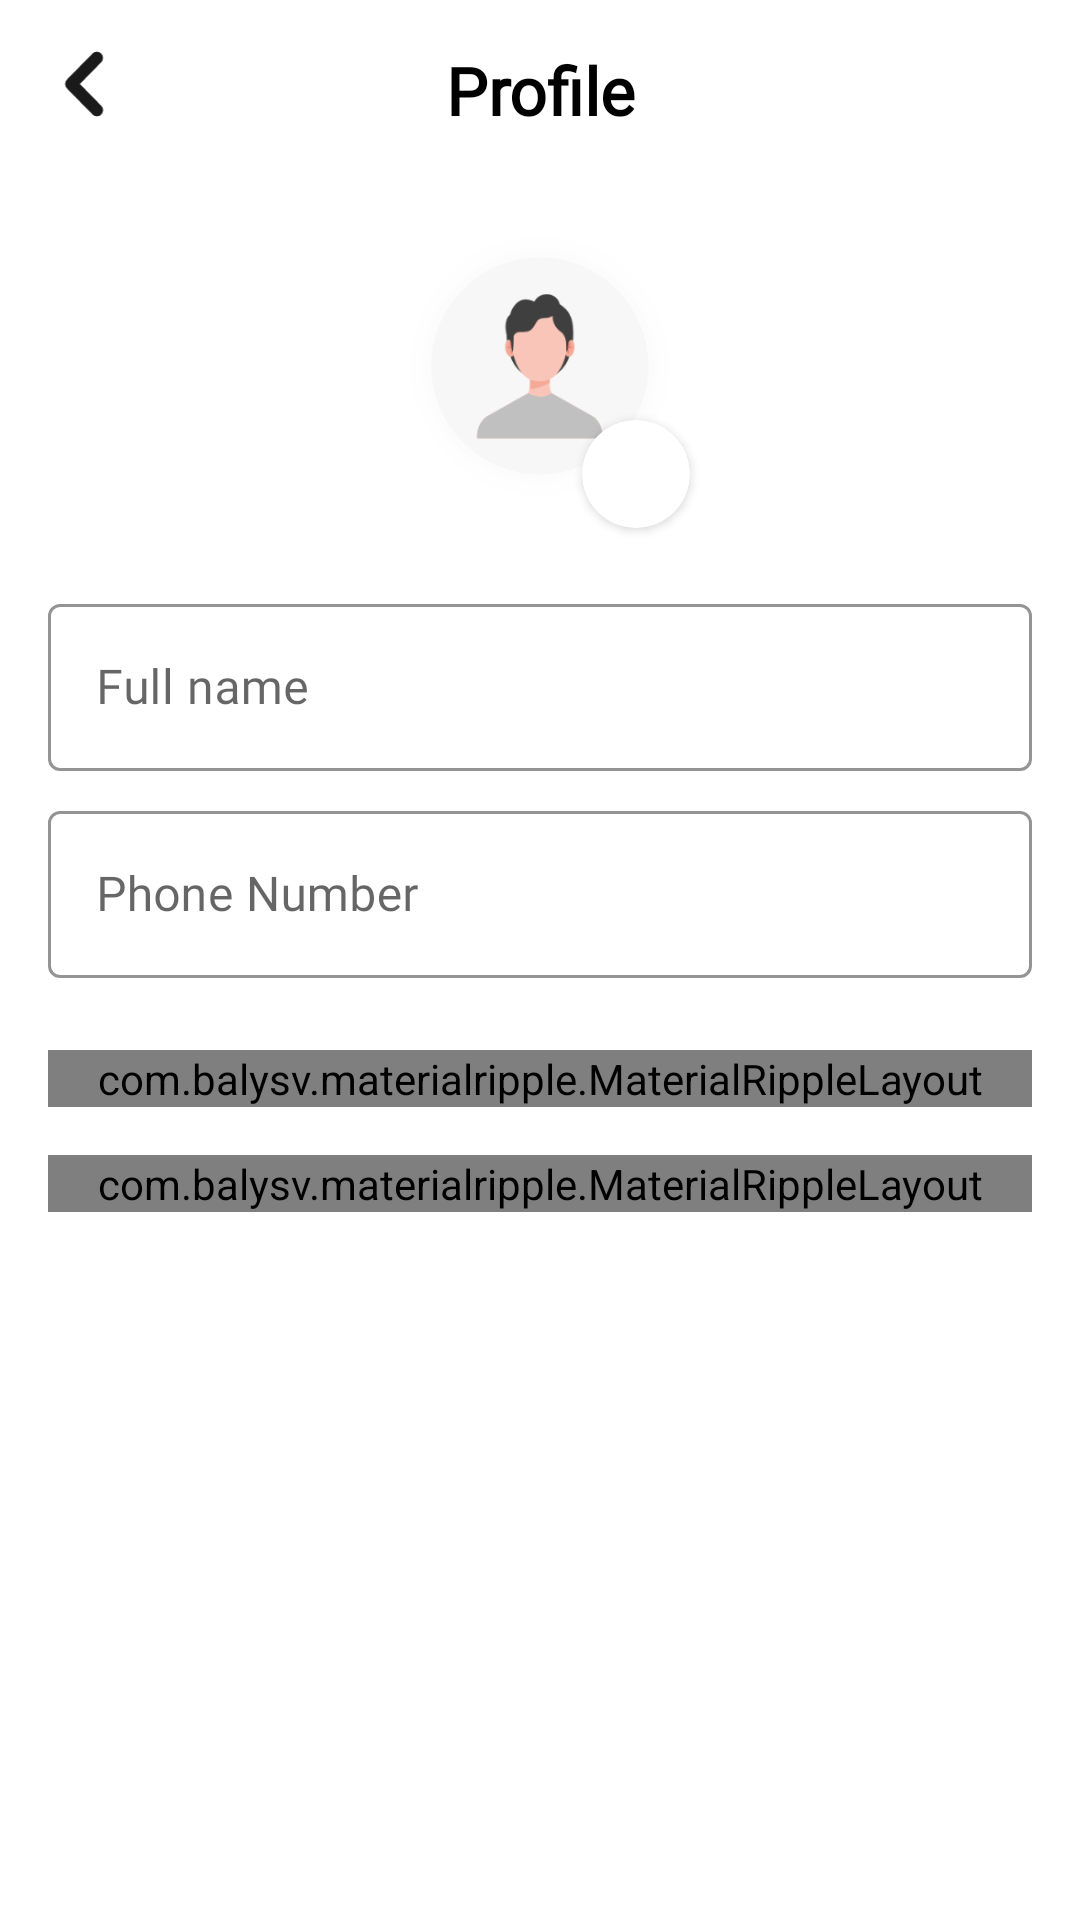

Point at icon controls on the screen. Image size 1080w x 1920h, points as point (x, y).
back: point (84, 84)
